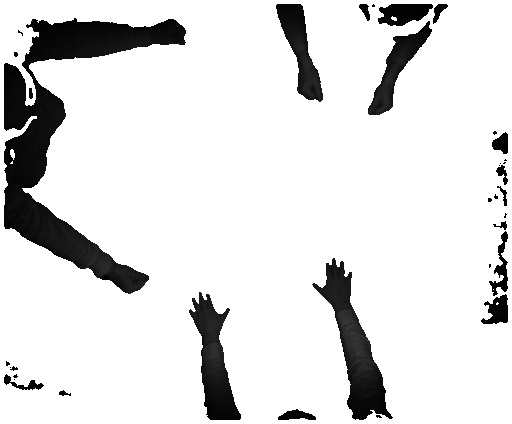fist: (115, 256, 151, 295), (296, 65, 327, 103), (155, 16, 191, 47), (368, 83, 399, 119)
hand: (312, 256, 359, 310), (184, 288, 231, 336)
